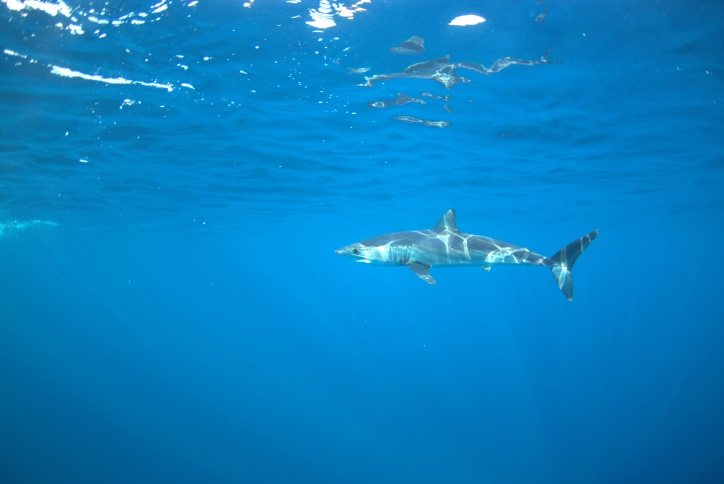Mako: (327, 202, 605, 307)
